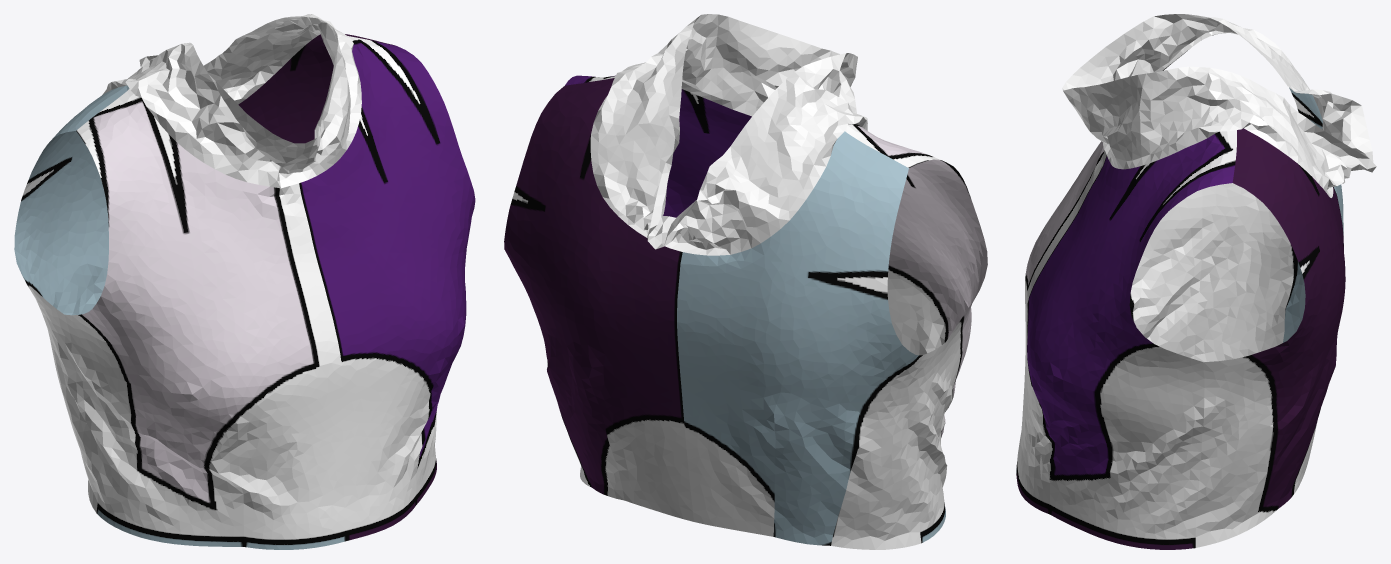
The model's file is gcdv2_mvp_000010.obj.
The picture shows the model from 3 angles, left to right: view 1: azimuth 30°, elevation 25°; view 2: azimuth 150°, elevation 25°; view 3: azimuth 270°, elevation 25°; orthographic projection. The views are drawn at different scales.
Size of the model in its own units: 36.86 by 40.77 by 30.41.
Materials: 1 (1 with a texture image).
